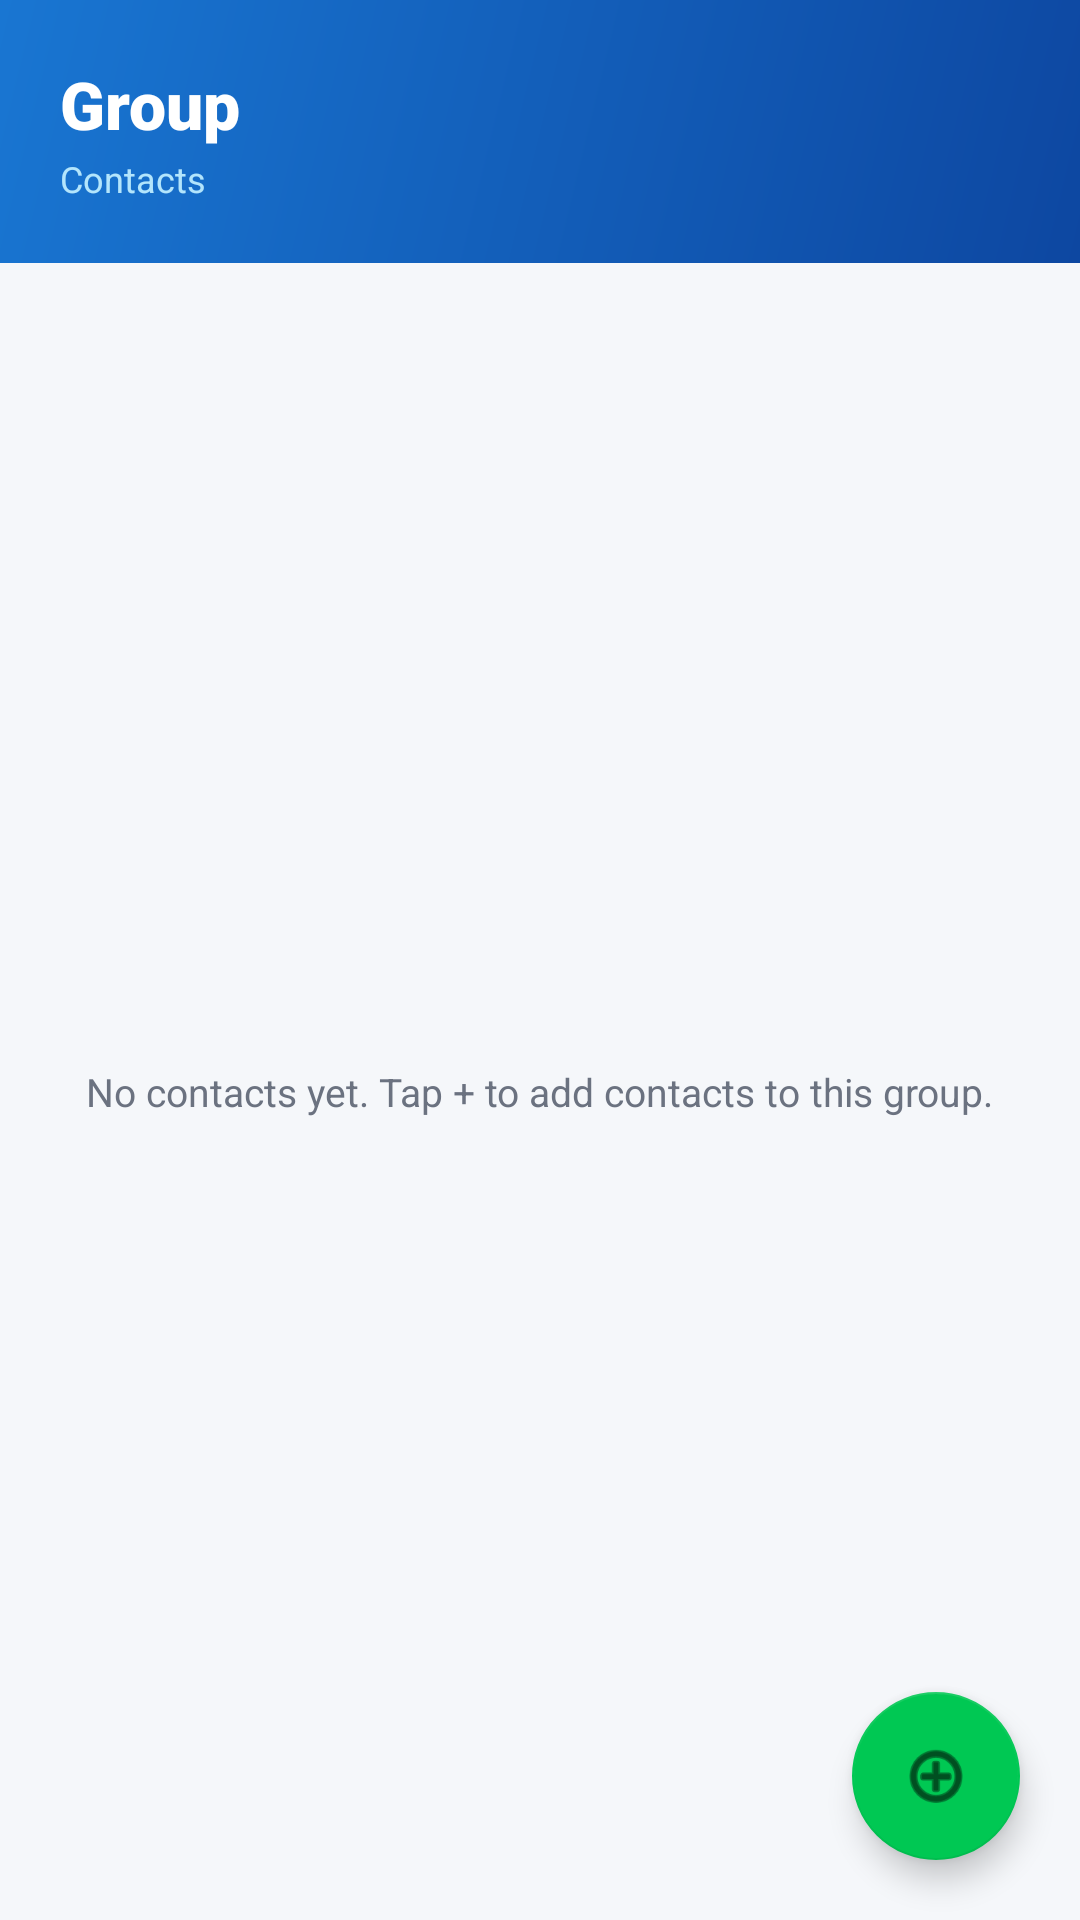

Screen size 1080x1920. Icon name, then its center in pixels as [x,y]:
Add contact: [936,1776]
